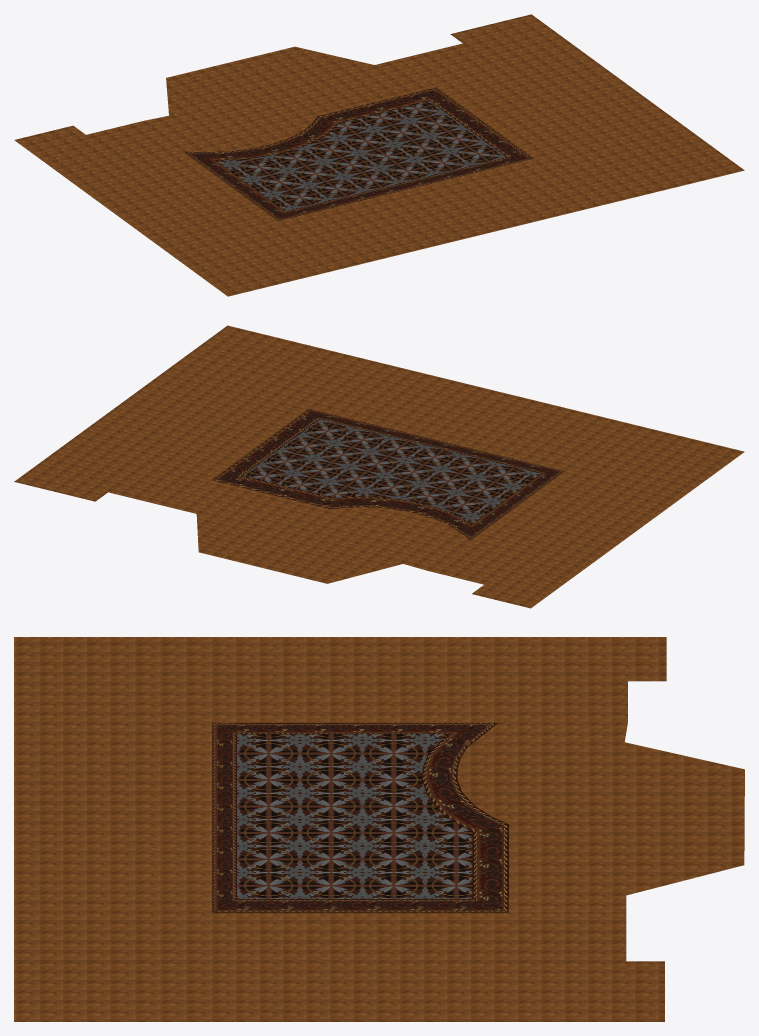
Rendered from GreatroomFloorMain.fbx.
3 views of the same model, one above another, from view 1: azimuth 30°, elevation 25°; view 2: azimuth 150°, elevation 25°; view 3: azimuth 270°, elevation 25° (orthographic). The views are drawn at different scales.
Visible parts, largest first — view 1: Plane.002; view 2: Plane.002; view 3: Plane.002.
Part boxes in pixels (x1,y1,x2,y2): Plane.002: [14, 14, 744, 296]; Plane.002: [14, 325, 744, 608]; Plane.002: [14, 637, 744, 1021].
Bounding box in the file's own units: 560 × 7.33e-05 × 450.
